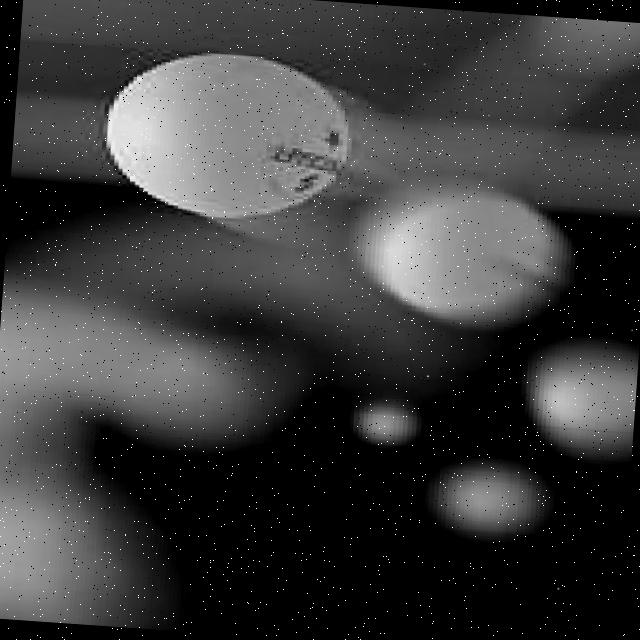ping-pong-ball: (94, 45, 355, 224), (352, 174, 570, 330), (520, 335, 639, 464), (431, 459, 546, 541), (354, 399, 415, 447)
